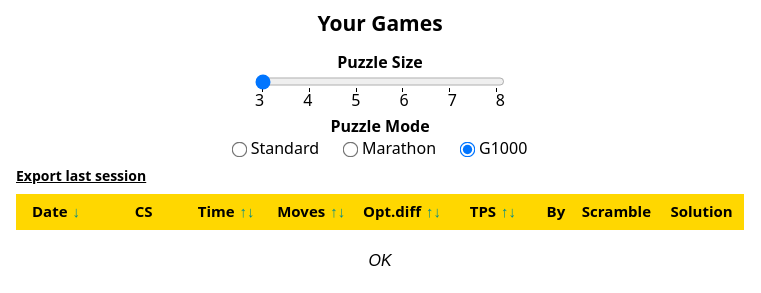
Test: GamesTable › puzzle size / mode watchers › drops g1000 mode back to standard when leaving the core size while on g1000
Expected: the element with class "buttons" is shown, [330,245,430,277]
Click the text "4": (308, 100) [303,90,312,111]
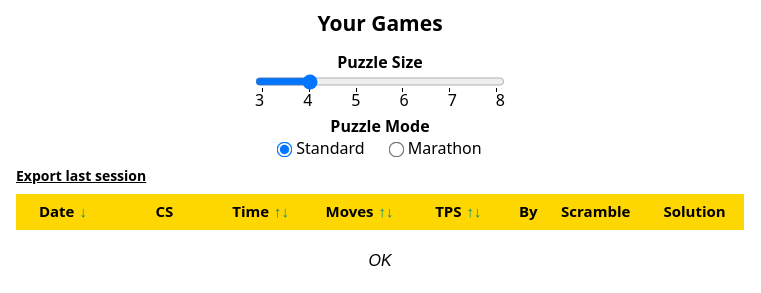
Result: the radio button labelled "Standard" is checked at [277,142,293,158]
